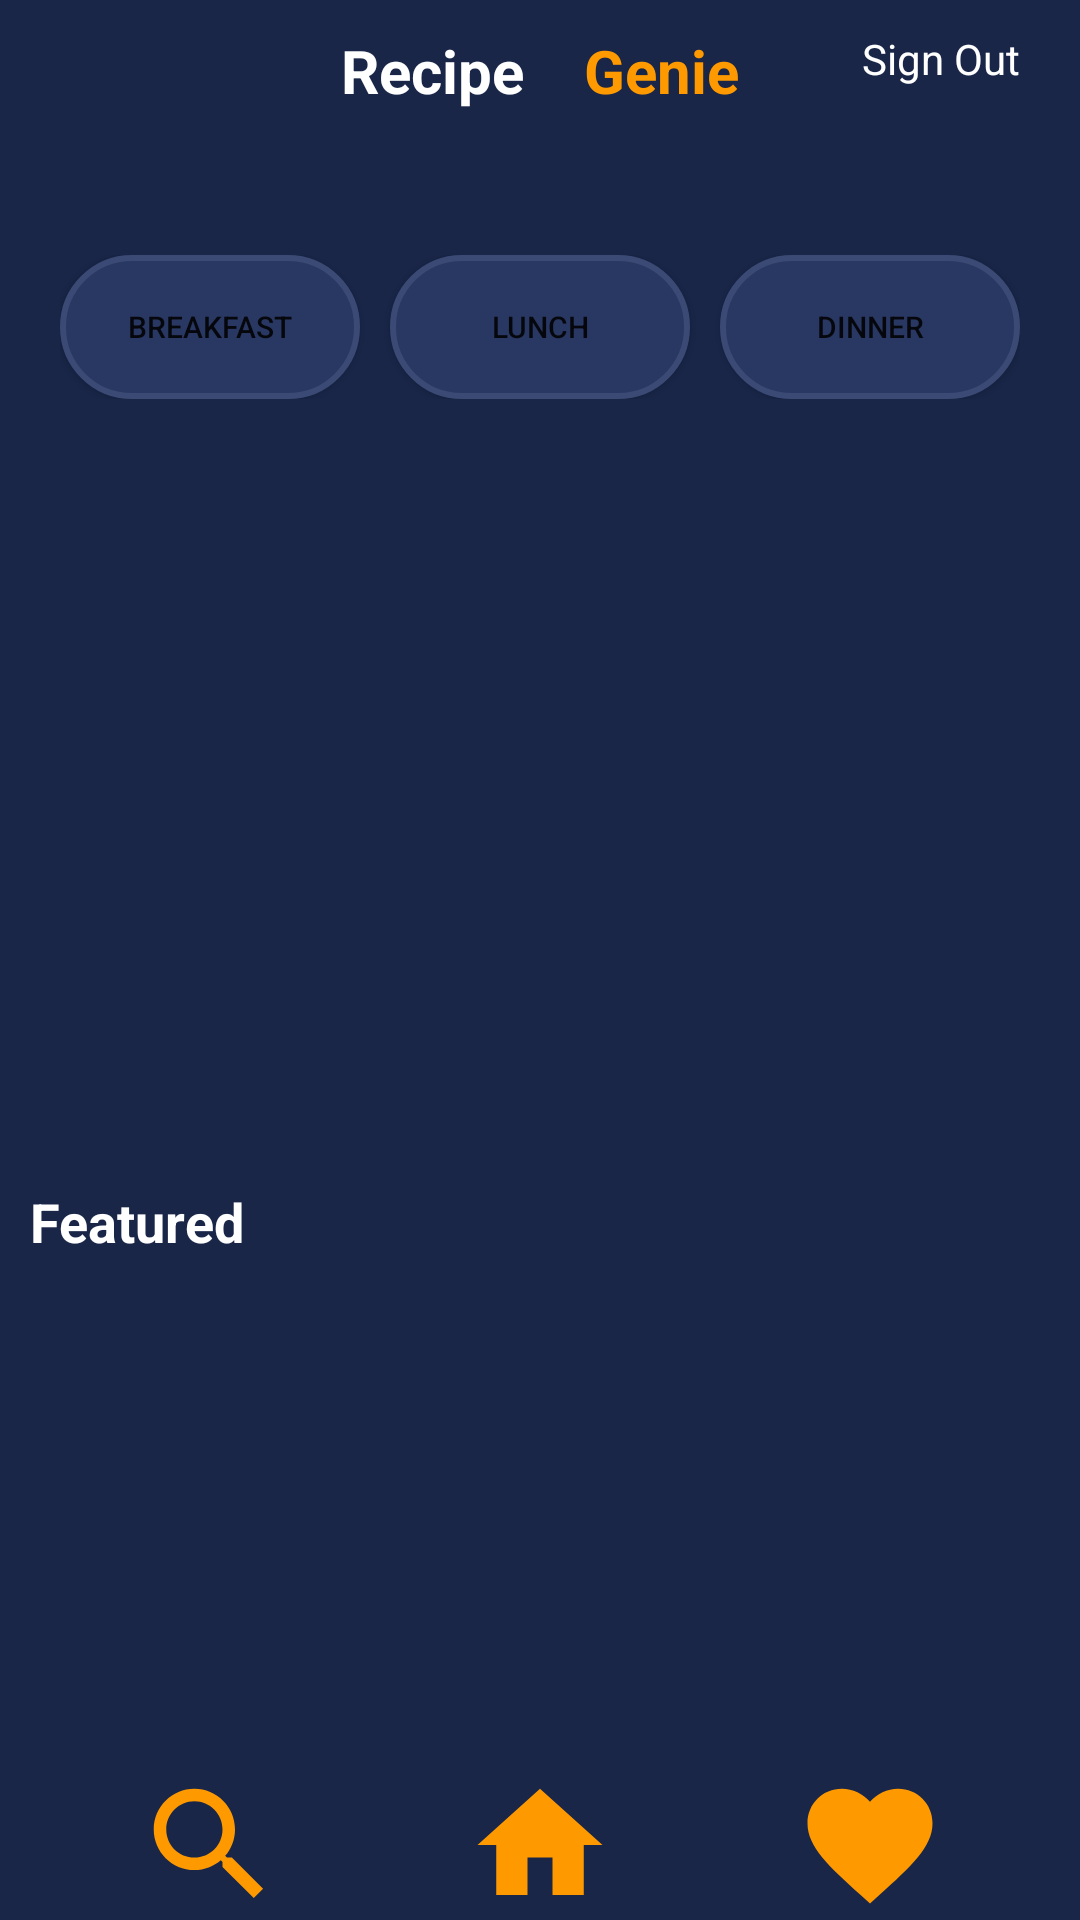

Point at icon controls on the screen. Image size 1080 x 1920, points as (x,y).
favorite: (870,1846)
home: (540,1842)
search: (208,1843)
